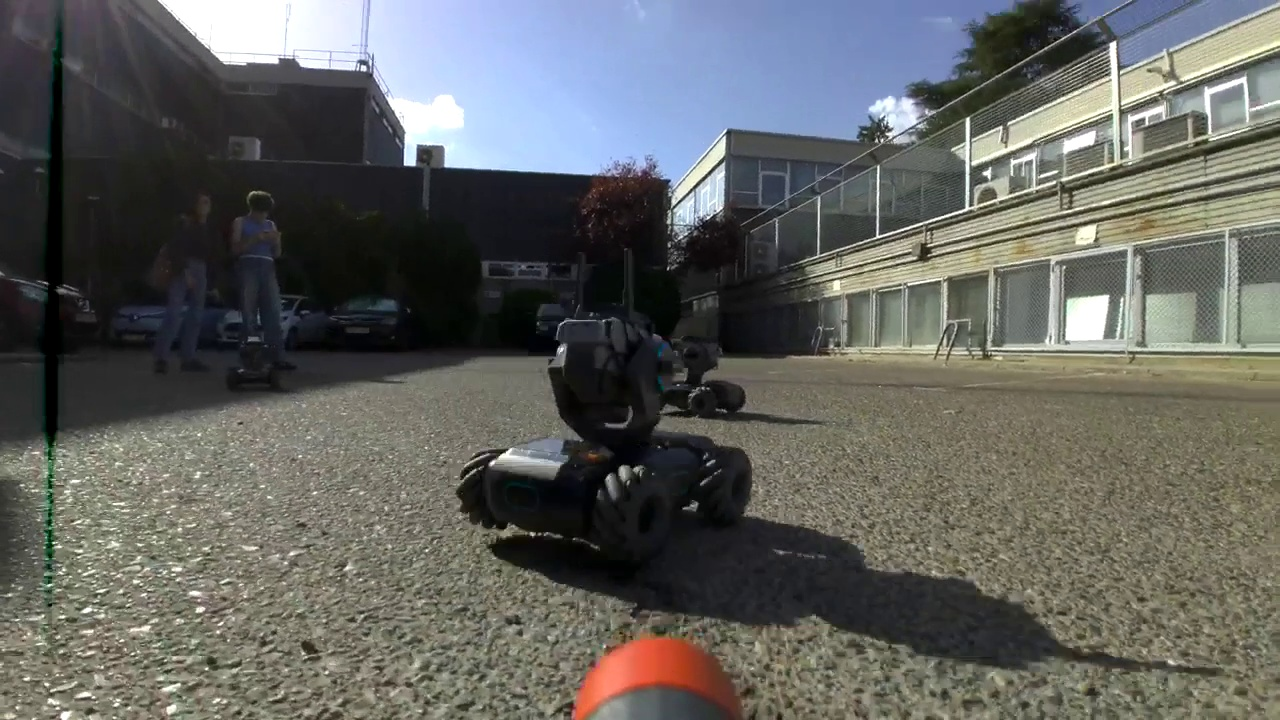robot: (456, 247, 756, 571), (672, 335, 749, 419), (226, 332, 283, 391)
